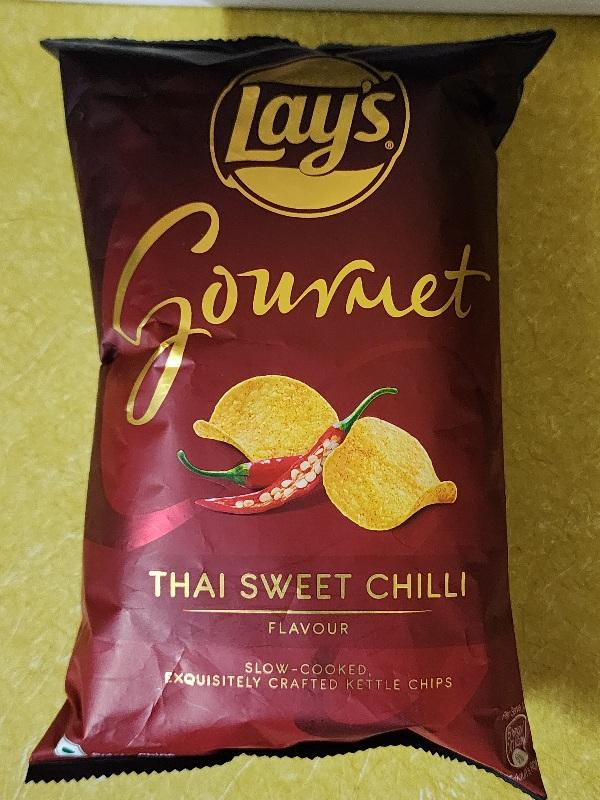Lays: (24, 27, 555, 791)
